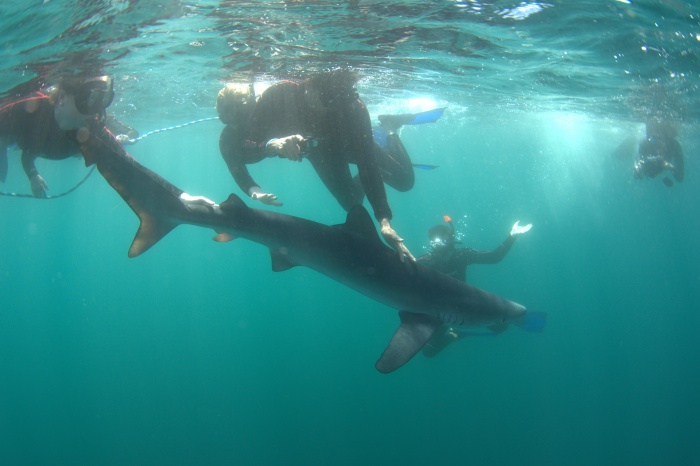Azul: (73, 141, 542, 396)
